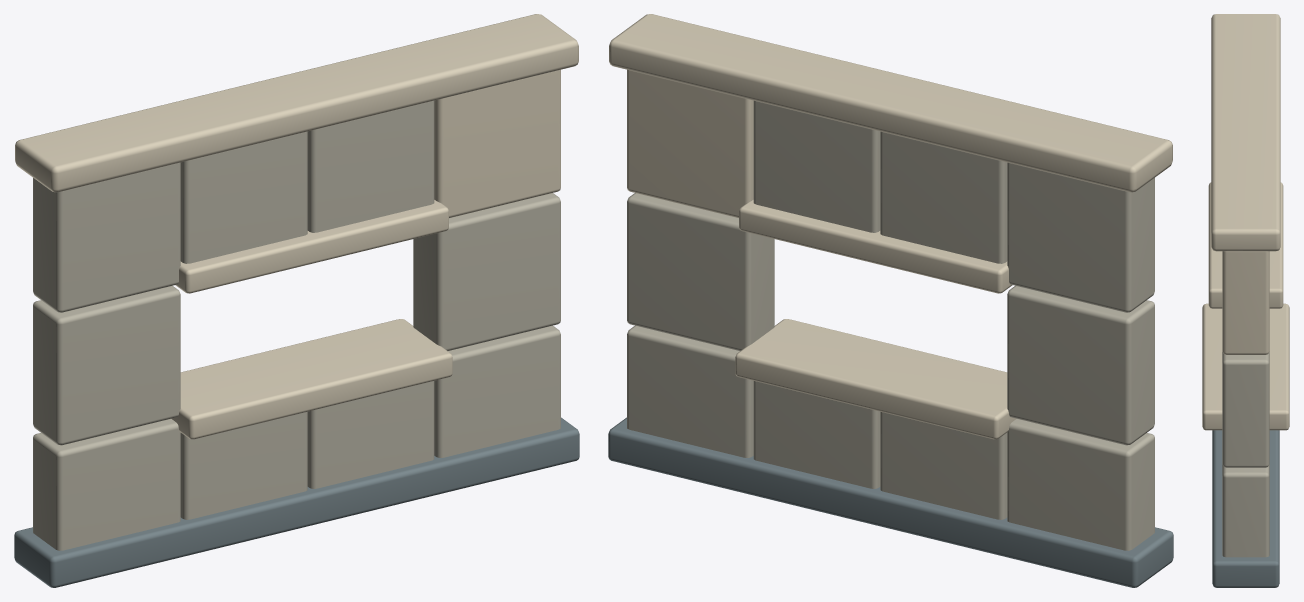
Rendered from SM_Wall_Window_Stone_4x3.fbx.
3 views of the same model, side by side, from view 1: azimuth 30°, elevation 25°; view 2: azimuth 150°, elevation 25°; view 3: azimuth 270°, elevation 25° (orthographic). The views are drawn at different scales.
Parts seen in each view (by area): view 1: SM_Wall_Window_Stone_4x3; view 2: SM_Wall_Window_Stone_4x3; view 3: SM_Wall_Window_Stone_4x3.
Part boxes in pixels (x1,y1,x2,y2): SM_Wall_Window_Stone_4x3: (14, 14, 579, 587); SM_Wall_Window_Stone_4x3: (608, 14, 1173, 587); SM_Wall_Window_Stone_4x3: (1202, 14, 1289, 587).
Bounding box in the file's own units: 4.18 × 3.18 × 0.7.
